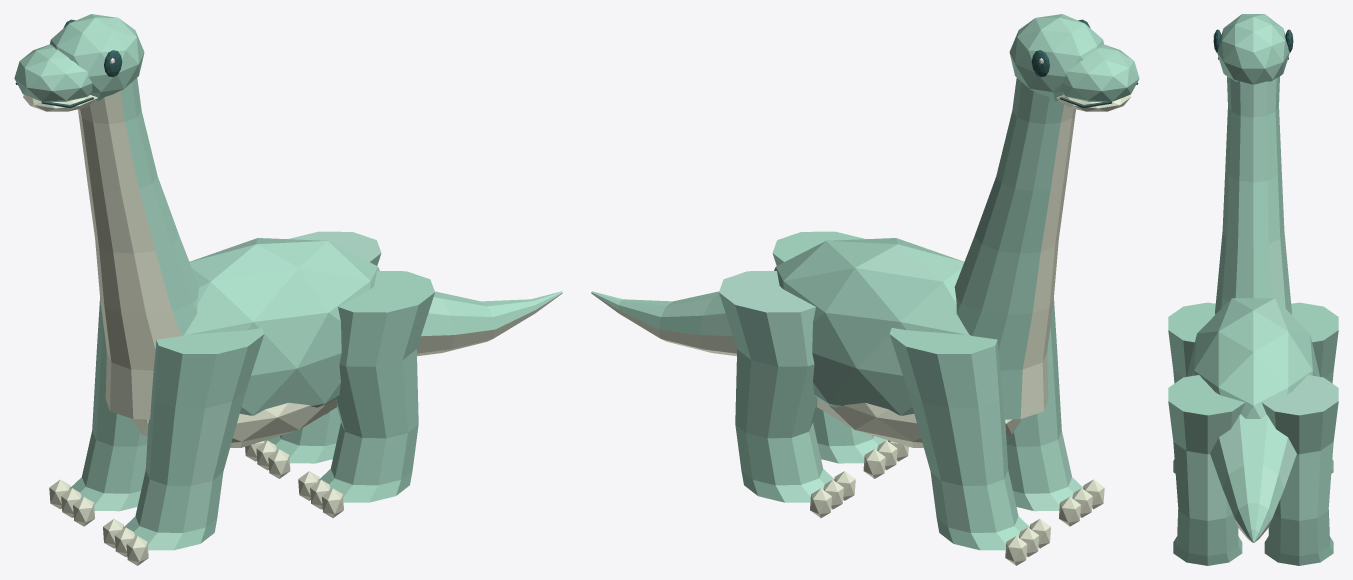
The model's file is brachiosaurus.glb.
3 renders of one model, left to right at view 1: azimuth 30°, elevation 25°; view 2: azimuth 150°, elevation 25°; view 3: azimuth 270°, elevation 25°, orthographic. The views are drawn at different scales.
Visible parts, largest first — view 1: Curved neck, Body, Rounded_leg, Rounded_leg.002, Rounded_leg.001, Tapered_tail, Head, Rounded_leg.003, Soft snout, Ivory belly; view 2: Curved neck, Body, Rounded_leg.001, Rounded_leg.003, Rounded_leg, Tapered_tail, Head, Rounded_leg.002, Soft snout, Ivory belly; view 3: Curved neck, Body, Rounded_leg.003, Rounded_leg.002, Tapered_tail, Head, Rounded_leg, Rounded_leg.001.
Part boxes in pixels (<box>): Curved neck: <box>78,78,199,419</box>; Body: <box>184,238,379,415</box>; Rounded_leg: <box>124,328,264,550</box>; Rounded_leg.002: <box>319,271,434,502</box>; Rounded_leg.001: <box>70,298,147,511</box>; Tapered_tail: <box>417,291,562,356</box>; Head: <box>50,14,144,101</box>; Rounded_leg.003: <box>266,231,381,463</box>; Soft snout: <box>14,44,92,102</box>; Ivory belly: <box>132,399,337,447</box>; Curved neck: <box>954,78,1075,419</box>; Body: <box>774,238,969,415</box>; Rounded_leg.001: <box>889,328,1029,550</box>; Rounded_leg.003: <box>719,271,834,502</box>; Rounded_leg: <box>1006,298,1083,511</box>; Tapered_tail: <box>591,291,736,356</box>; Head: <box>1009,14,1103,101</box>; Rounded_leg.002: <box>772,231,887,463</box>; Soft snout: <box>1061,44,1139,102</box>; Ivory belly: <box>816,399,1021,447</box>; Curved neck: <box>1215,76,1291,314</box>; Body: <box>1187,298,1319,418</box>; Rounded_leg.003: <box>1262,375,1338,565</box>; Rounded_leg.002: <box>1168,375,1244,565</box>; Tapered_tail: <box>1210,414,1296,542</box>; Head: <box>1217,14,1289,84</box>; Rounded_leg: <box>1168,302,1215,473</box>; Rounded_leg.001: <box>1291,302,1338,473</box>.
Size of the model in its own units: 3.96 by 3.64 by 1.27.
